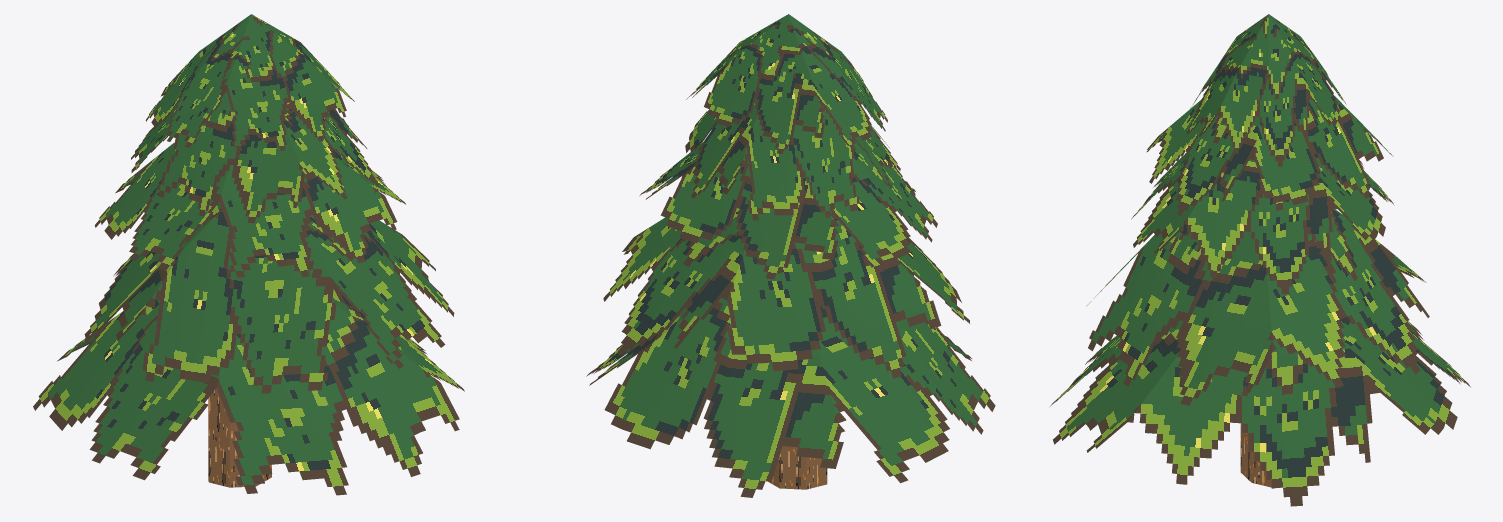
File: pine_tree.gltf
The picture shows the model from 3 angles, left to right: view 1: azimuth 30°, elevation 25°; view 2: azimuth 150°, elevation 25°; view 3: azimuth 270°, elevation 25°; orthographic projection.
Size of the model in its own units: 8.41 by 9.19 by 8.
1 material, 1 textured.
